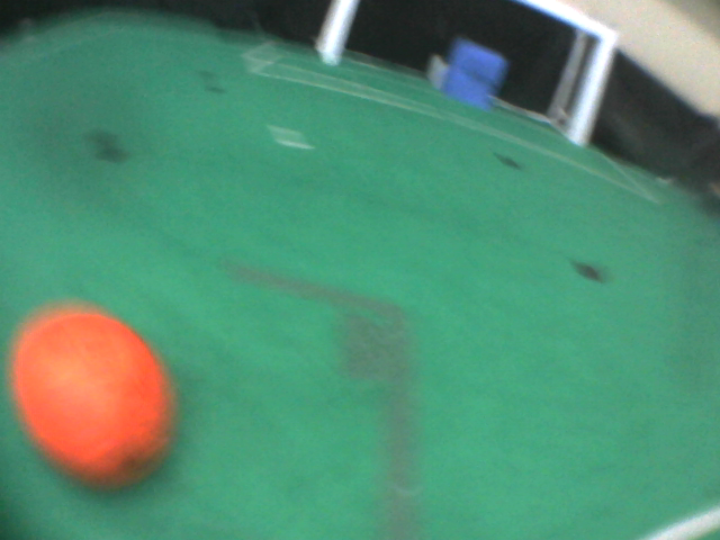bola: (1, 299, 196, 504)
